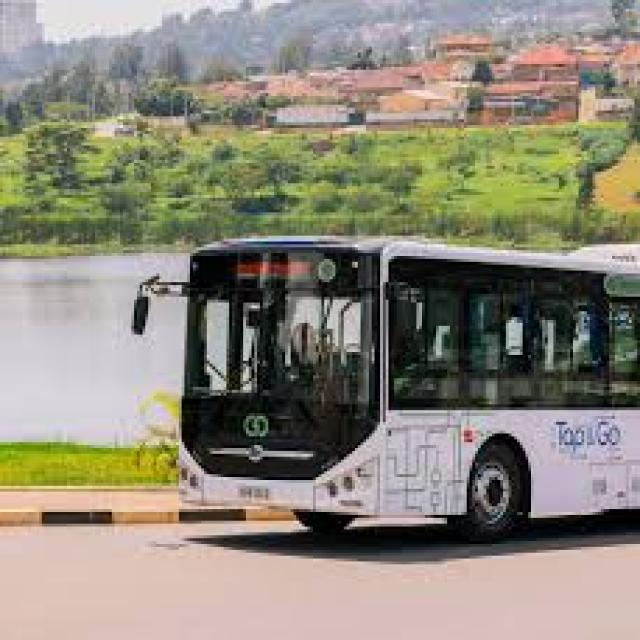bus: (85, 163, 640, 563)
